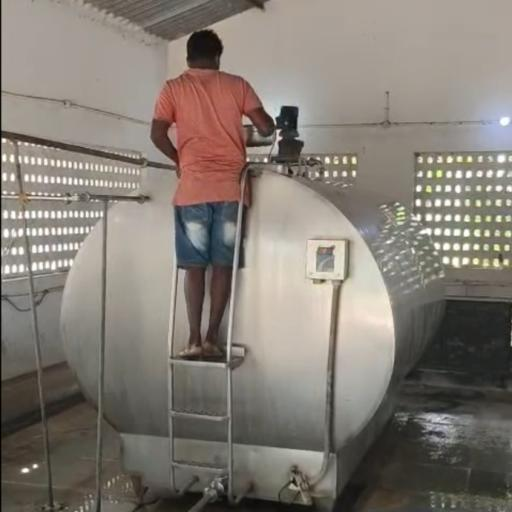silo: (55, 160, 451, 505)
vessel: (243, 125, 278, 148)
